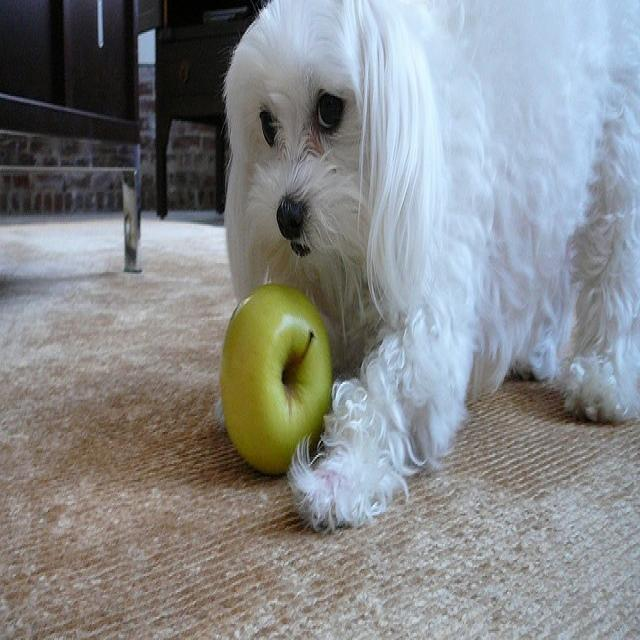dog: (220, 0, 639, 524)
